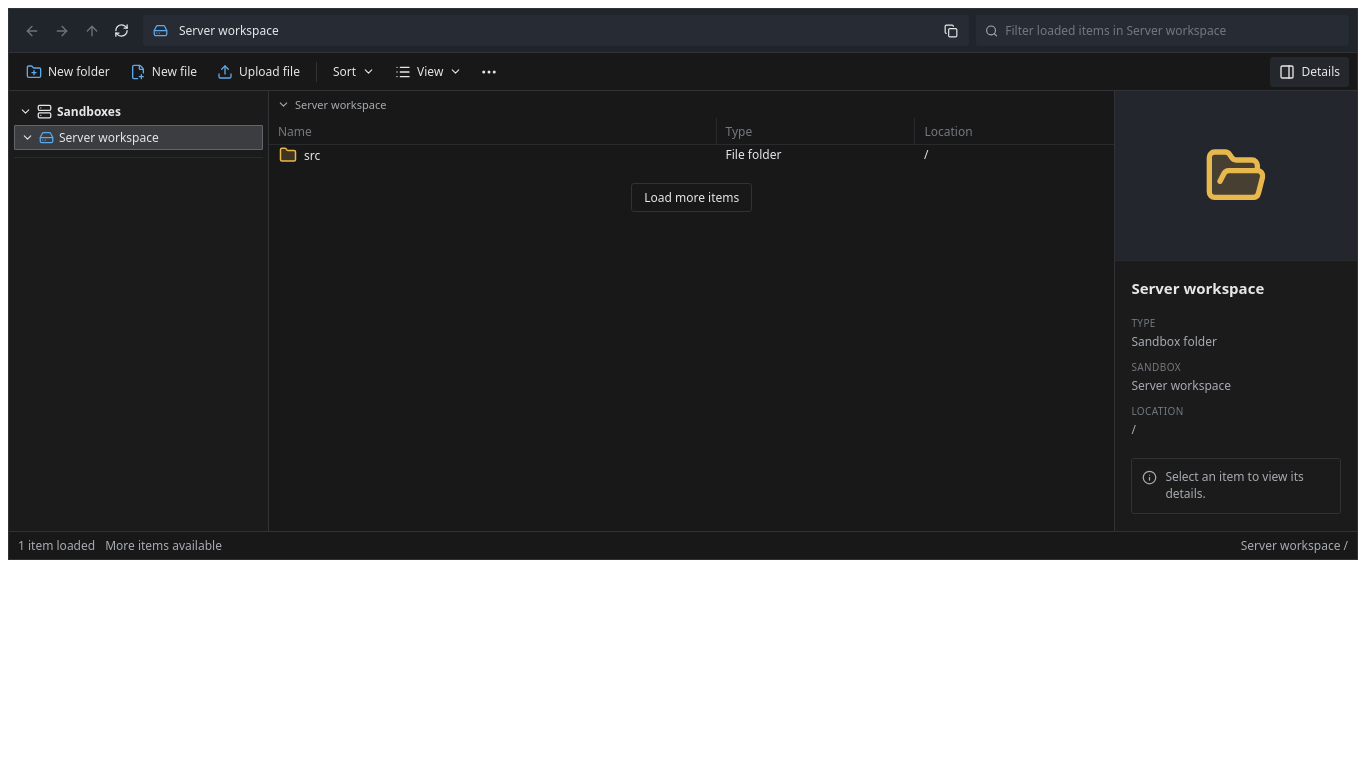
Test: SandboxExplorerView › toggles the details pane and navigates backward through directory history
The image size is (1366, 768).
Double-click the button "src File folder /" at x=753, y=154, box [269,145,1114,175]
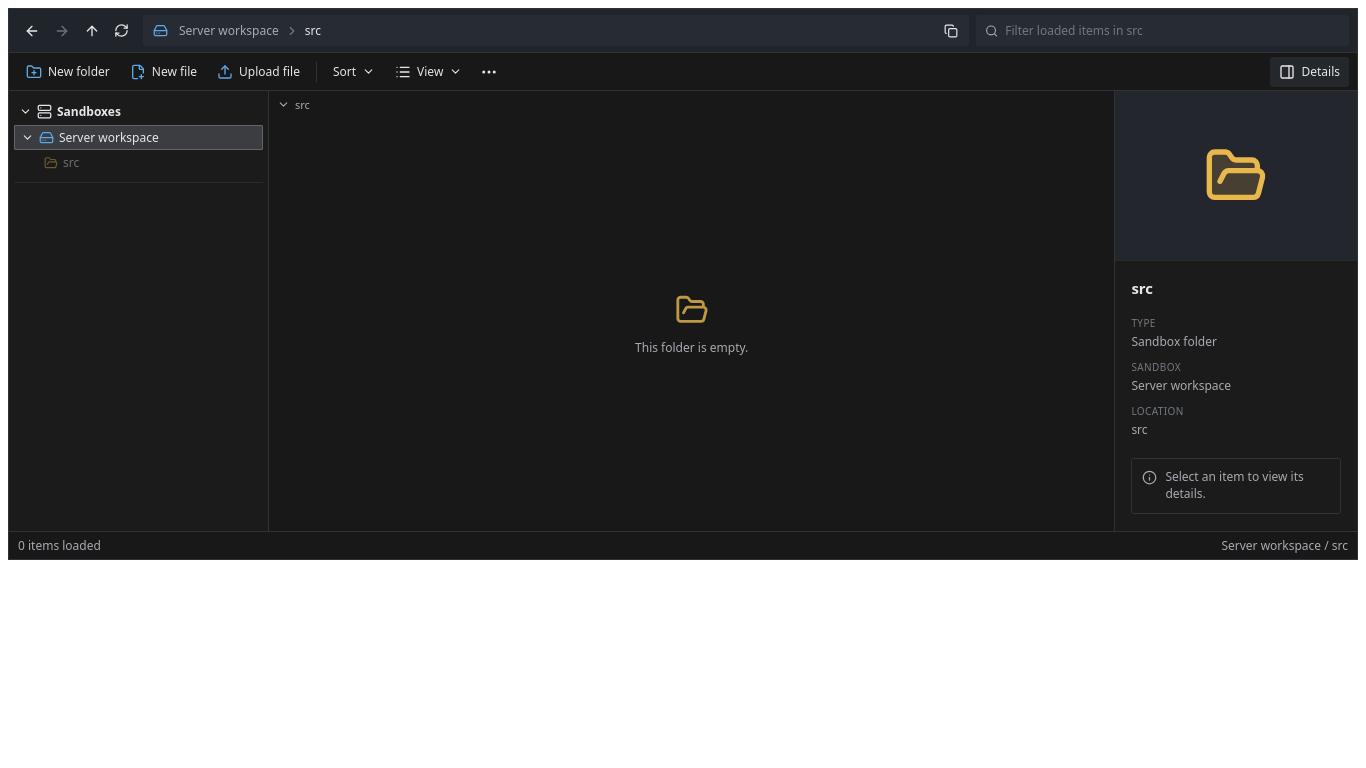
Click the button with aria-label "Hide details pane" at x=1310, y=72, box [1270,56,1349,86]
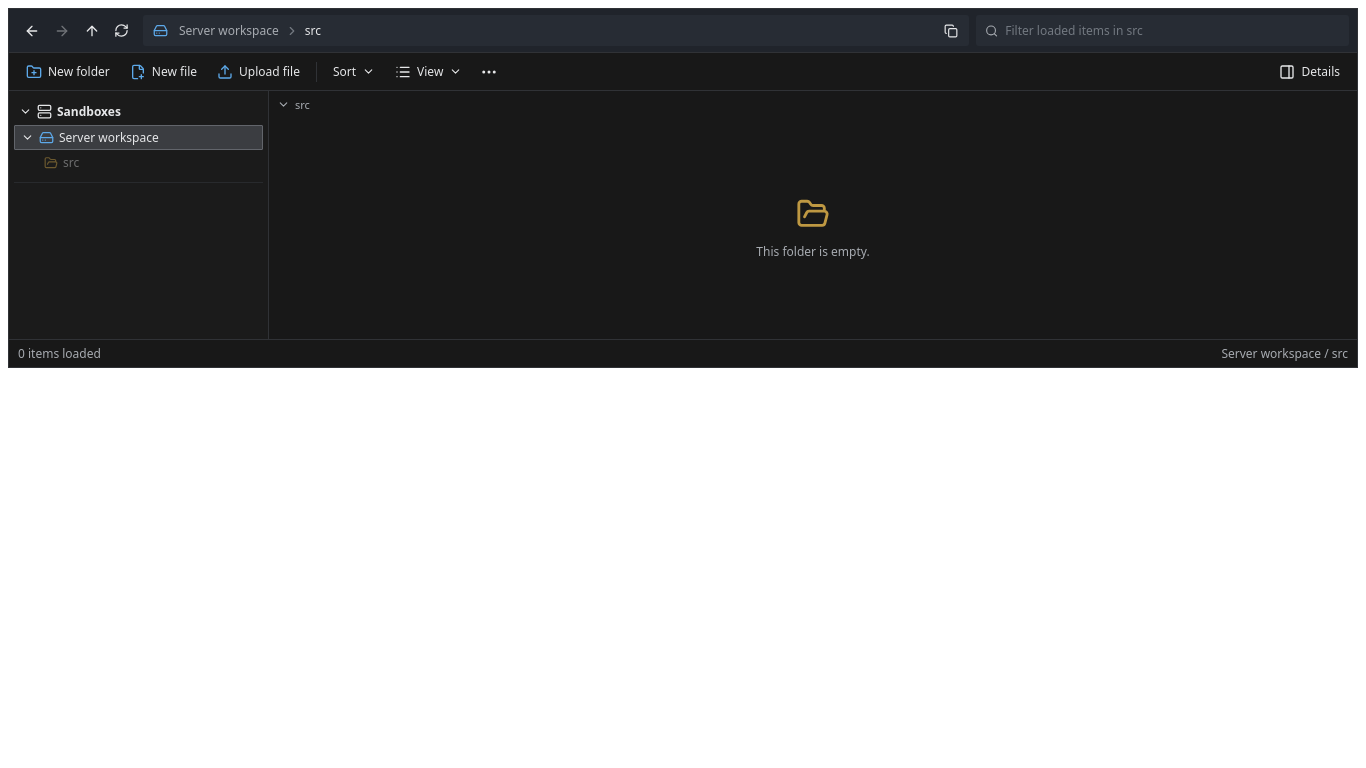
Click the button named "Back" at x=32, y=30, box [17,16,46,46]
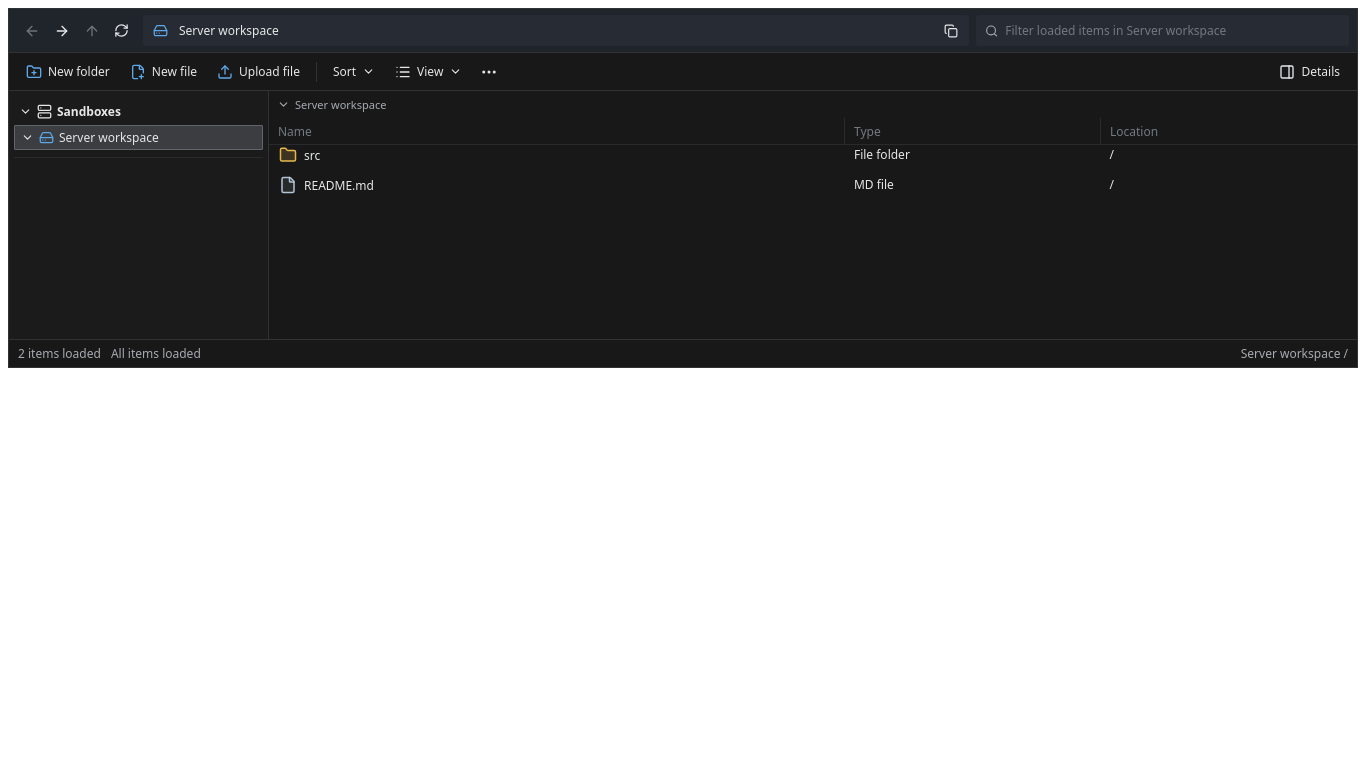
Expected: the button "src File folder /" is shown, [269,145,1357,175]
